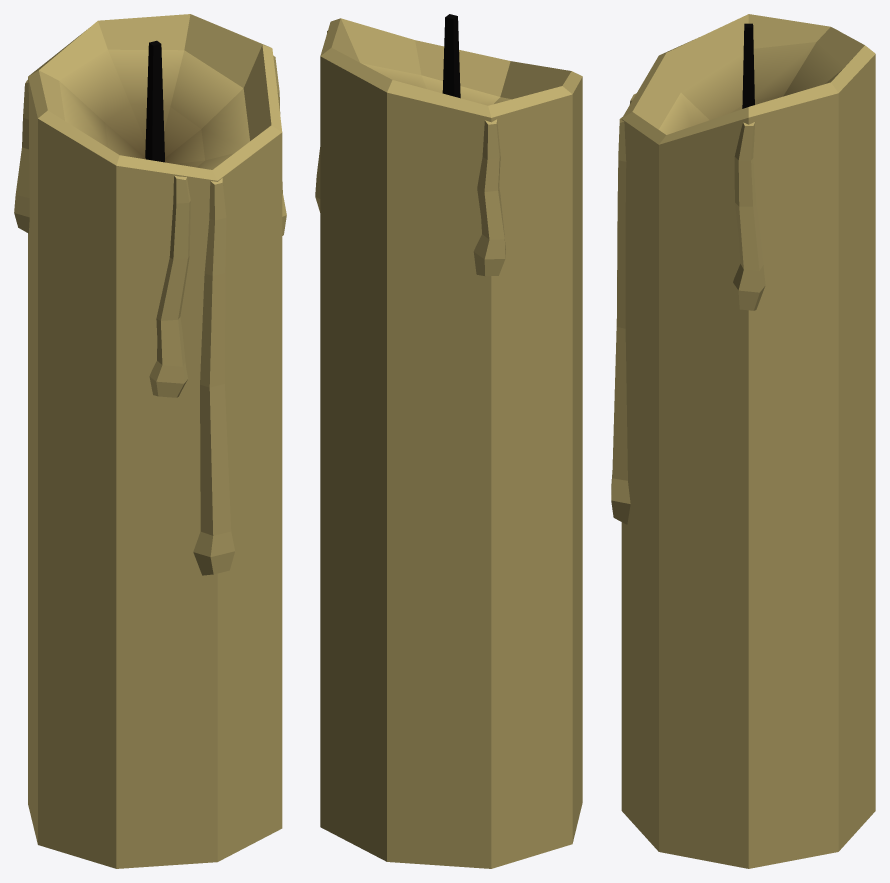
The model's file is Vela - Var 4.fbx.
3 views of the same model, side by side, from view 1: azimuth 30°, elevation 25°; view 2: azimuth 150°, elevation 25°; view 3: azimuth 270°, elevation 25° (orthographic). The views are drawn at different scales.
Parts seen in each view (by area): view 1: Vela_larga_derretida; view 2: Vela_larga_derretida; view 3: Vela_larga_derretida.
Boxes of the visible parts, <box> form: Vela_larga_derretida: <box>14,14,286,868</box>; Vela_larga_derretida: <box>315,14,582,868</box>; Vela_larga_derretida: <box>611,14,875,868</box>.
Size of the model in its own units: 4.09 by 12.39 by 3.78.
